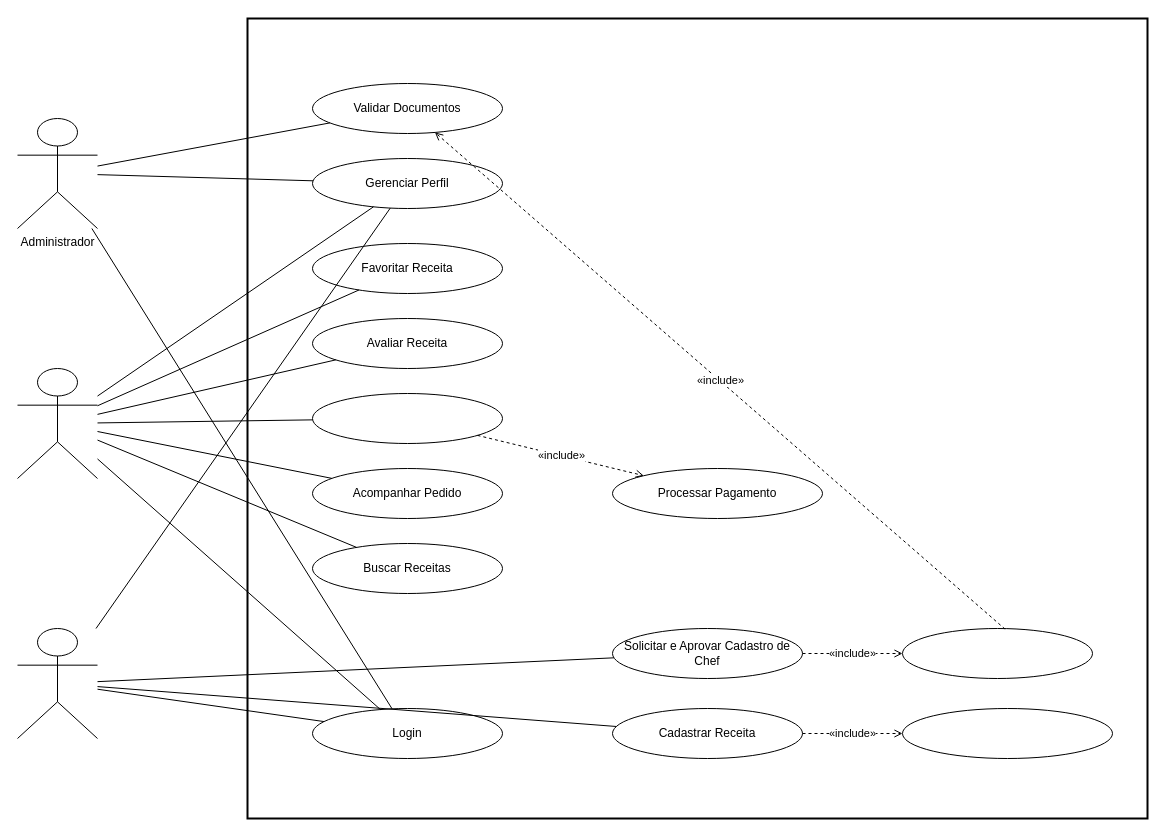
The diagram is 1166 pixels wide and 836 high, and some of its shapes have lost their labels. Here are the shapes that lost their labels. From the top down, the centre of each, then its label:
point 57,423: Usuário
point 407,418: Criar Pedido
point 997,653: Enviar Documentos
point 57,683: Chef
point 1007,733: Gerenciar Ingredientes
